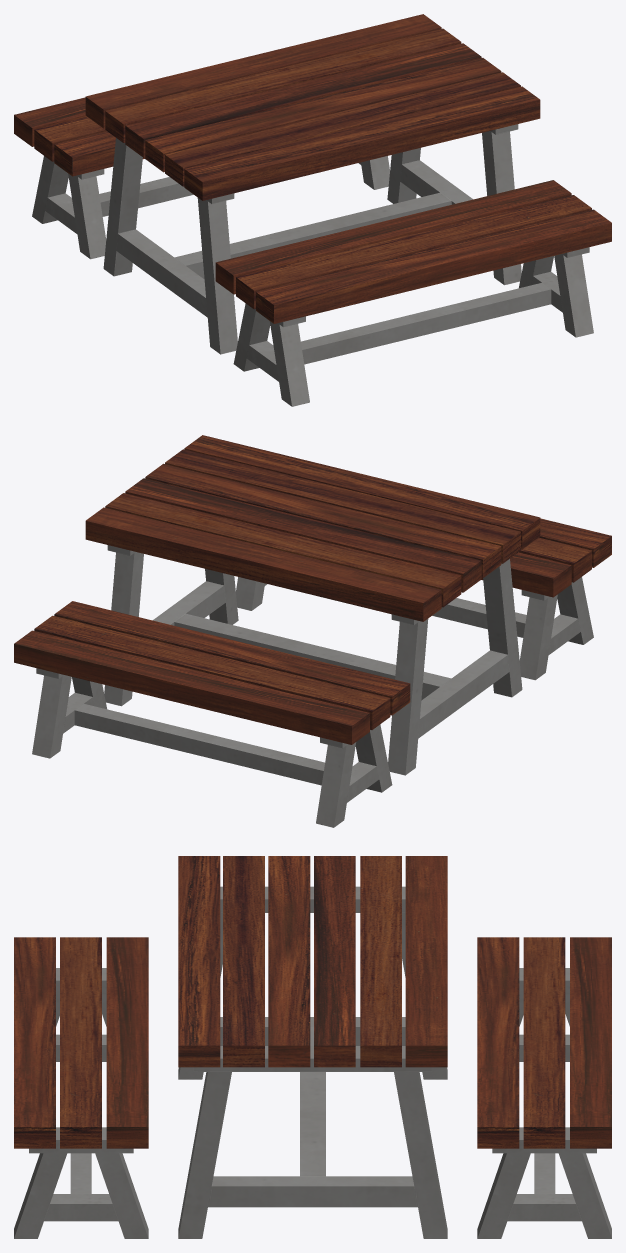
Rendered from chair_table.glb.
3 renders of one model, top to bottom at view 1: azimuth 30°, elevation 25°; view 2: azimuth 150°, elevation 25°; view 3: azimuth 270°, elevation 25°, orthographic. The views are drawn at different scales.
Parts seen in each view (by area): view 1: Yik_GardenTable_Material #182_0, Yik_GardenChair02_Material #184_0, Yik_GardenChair_Material #183_0; view 2: Yik_GardenTable_Material #182_0, Yik_GardenChair_Material #183_0, Yik_GardenChair02_Material #184_0; view 3: Yik_GardenTable_Material #182_0, Yik_GardenChair_Material #183_0, Yik_GardenChair02_Material #184_0.
Boxes of the visible parts, x1=… form: Yik_GardenTable_Material #182_0: x1=85, y1=14, x2=540, y2=354; Yik_GardenChair02_Material #184_0: x1=215, y1=180, x2=611, y2=406; Yik_GardenChair_Material #183_0: x1=14, y1=97, x2=389, y2=259; Yik_GardenTable_Material #182_0: x1=85, y1=435, x2=540, y2=775; Yik_GardenChair_Material #183_0: x1=14, y1=601, x2=410, y2=827; Yik_GardenChair02_Material #184_0: x1=236, y1=518, x2=611, y2=680; Yik_GardenTable_Material #182_0: x1=178, y1=856, x2=447, y2=1238; Yik_GardenChair_Material #183_0: x1=477, y1=937, x2=611, y2=1238; Yik_GardenChair02_Material #184_0: x1=14, y1=937, x2=148, y2=1238.
Bounding box in the file's own units: 1.5 × 0.75 × 2.
Materials: 3 (3 with a texture image).
